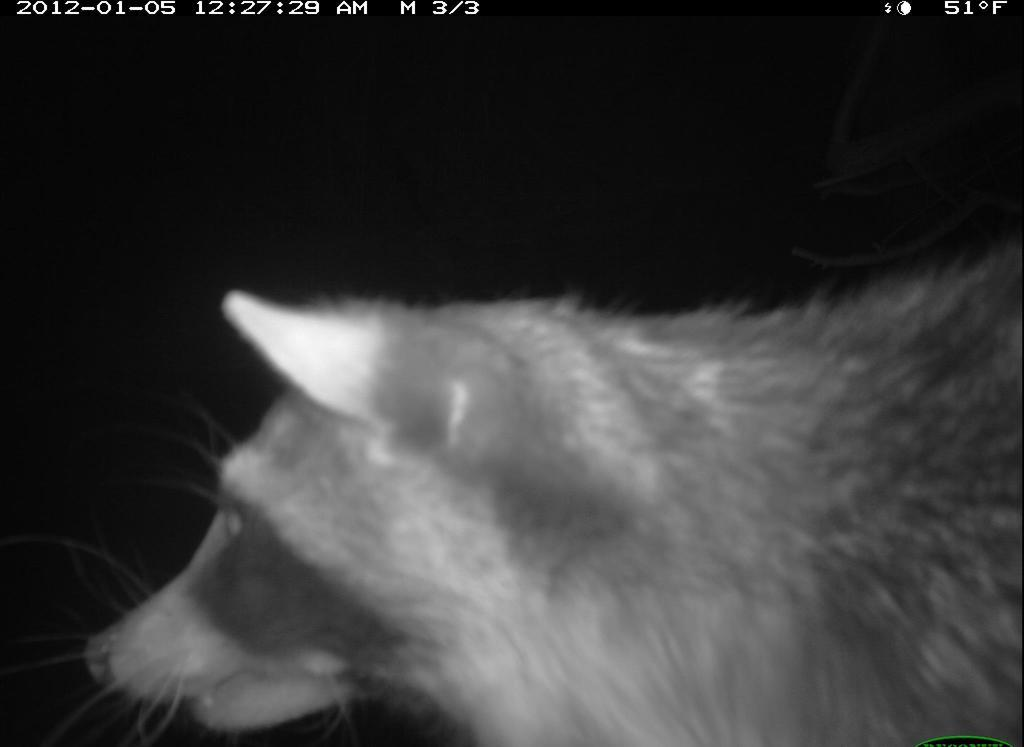raccoon: (50, 218, 1018, 742)
